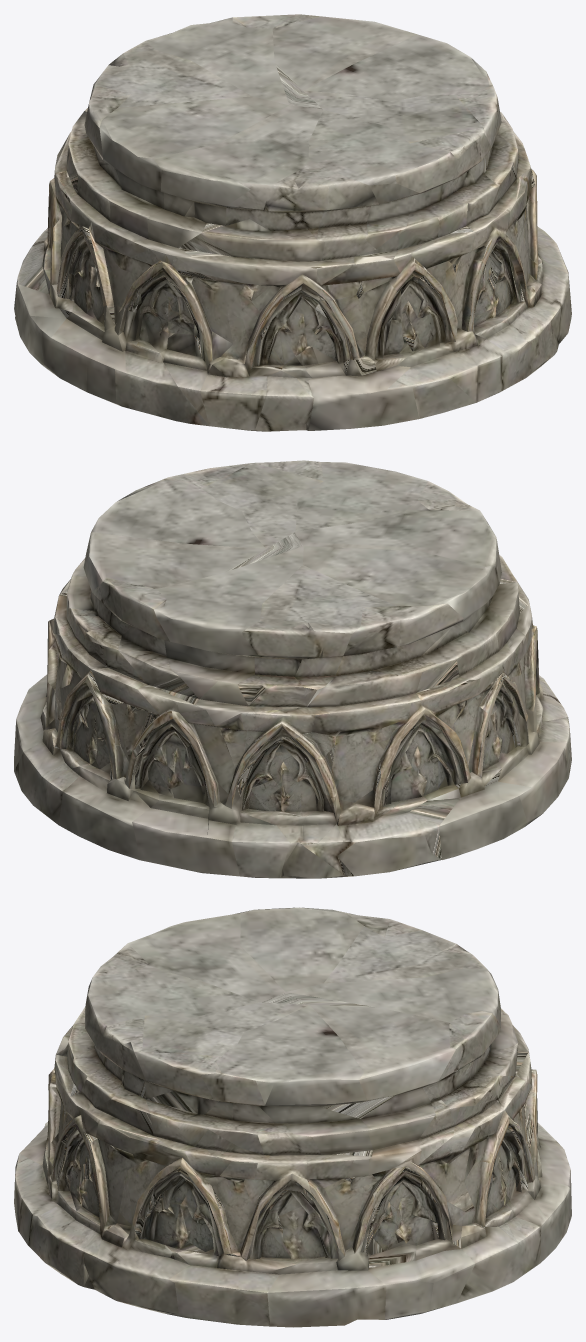
File: base-white.glb
The picture shows the model from 3 angles, top to bottom: view 1: azimuth 30°, elevation 25°; view 2: azimuth 150°, elevation 25°; view 3: azimuth 270°, elevation 25°; orthographic projection.
Parts seen in each view (by area): view 1: PieceBase; view 2: PieceBase; view 3: PieceBase.
Boxes of the visible parts, box(x1,y1,x2,y2) form: PieceBase: box(14, 14, 571, 431); PieceBase: box(14, 460, 571, 878); PieceBase: box(14, 907, 571, 1327).
Size of the model in its own units: 0.9969 by 0.4253 by 0.9953.
Materials: 1 (1 with a texture image).
